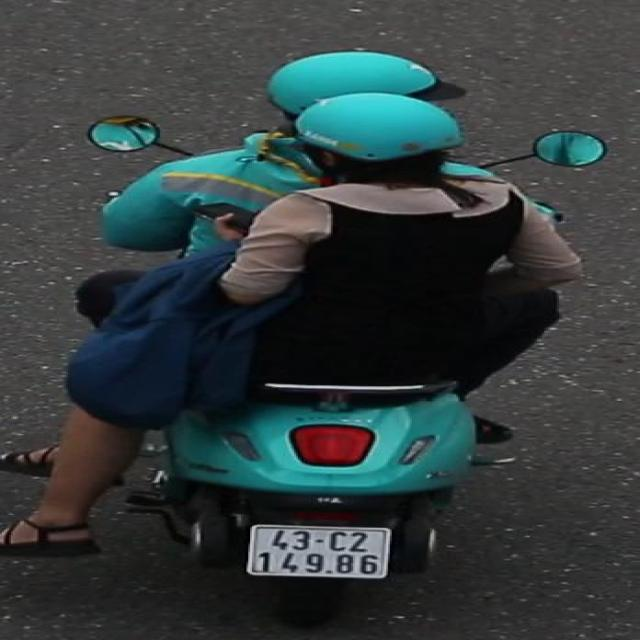LP: (243, 520, 397, 586)
helmet: (287, 88, 474, 199)
